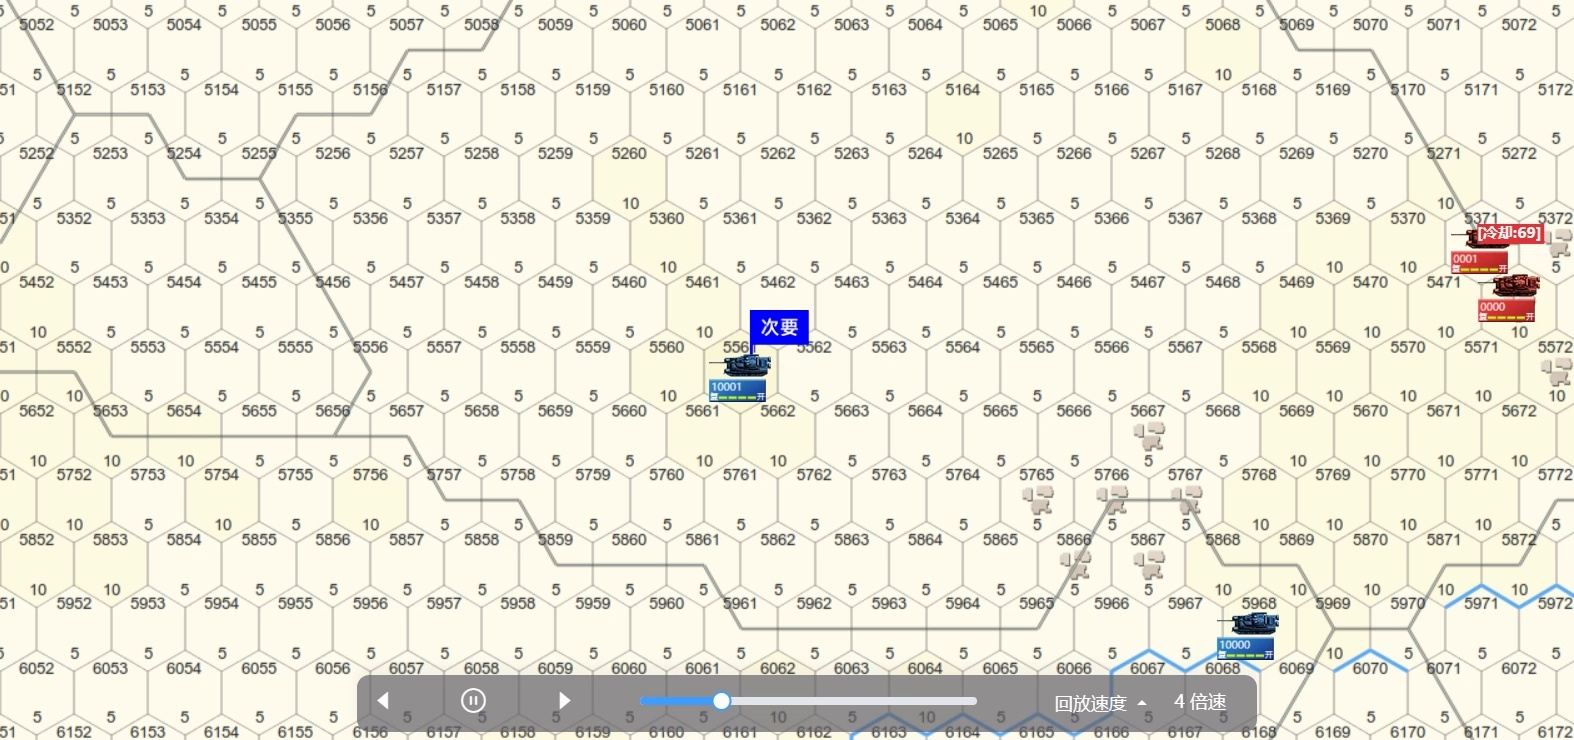blue_tank: (705, 352, 772, 410), (1216, 609, 1278, 656)
red_tank: (1448, 228, 1516, 273), (1485, 271, 1536, 319)
